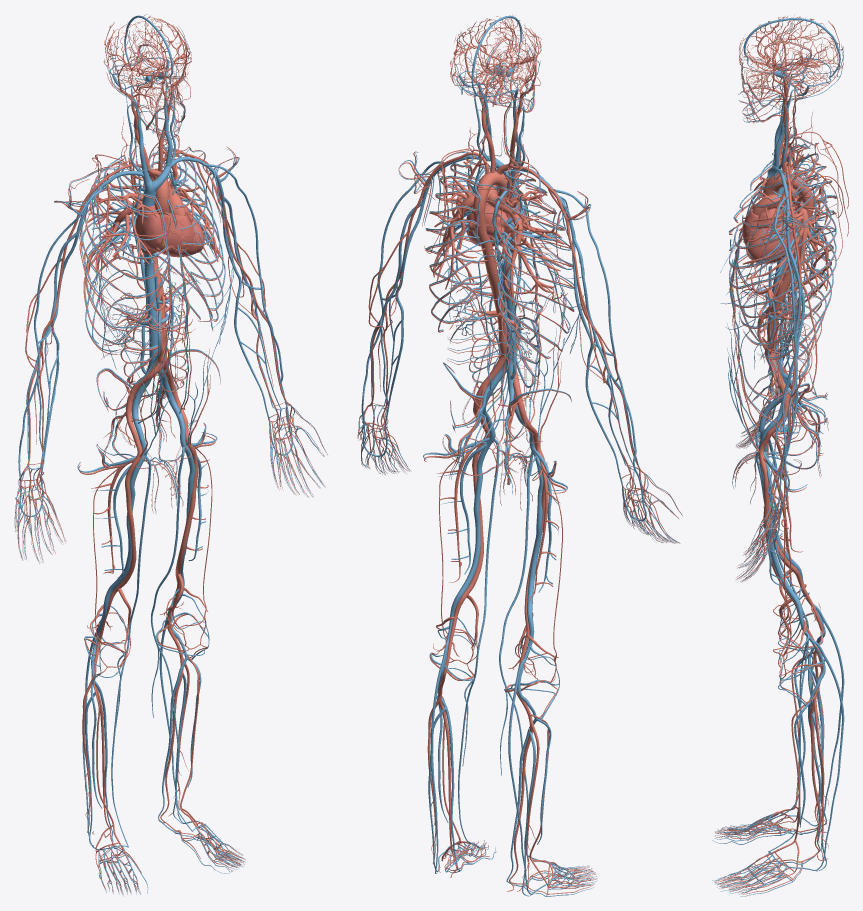
The model's file is cardiovascular-web.glb.
3 views of the same model, side by side, from view 1: azimuth 30°, elevation 25°; view 2: azimuth 150°, elevation 25°; view 3: azimuth 270°, elevation 25° (orthographic). The views are drawn at different scales.
Parts seen in each view (by area): view 1: Right superior intercostal vein.001, Posterior intercostal arteries.r.001, Left superior intercostal vein.001, Great saphenous vein.l.001, Right atrium.001, Right ventricle.001, Great saphenous vein.r.001, Femoral artery.r.001, Posterior intercostal arteries.l.001, Cephalic vein.r.001, Femoral artery.l.001, Cephalic vein.l.001 (+2 smaller); view 2: Posterior intercostal arteries.r.001, Right superior intercostal vein.001, Left superior intercostal vein.001, Posterior intercostal arteries.l.001, Great saphenous vein.l.001, Great saphenous vein.r.001, Femoral vein.l.001, Femoral vein.r.001, Cephalic vein.r.001, Thoracic aorta.001, Basilic vein.r.001, Femoral artery.l.001 (+4 smaller); view 3: Left superior intercostal vein.001, Posterior intercostal arteries.l.001, Cephalic vein.l.001, Right superior intercostal vein.001, Left ventricle.001, Small saphenous vein.l.001, Femoral artery.l.001, Abdominal aorta.001, Great saphenous vein.r.001, Posterior intercostal arteries.r.001, Small saphenous vein.r.001, Great saphenous vein.l.001 (+24 smaller).
Part boxes in pixels (left/top/right/bottom): Right superior intercostal vein.001: left=81, top=155, right=172, bottom=351; Posterior intercostal arteries.r.001: left=79, top=163, right=169, bottom=354; Left superior intercostal vein.001: left=144, top=147, right=225, bottom=329; Great saphenous vein.l.001: left=150, top=446, right=192, bottom=831; Right atrium.001: left=135, top=205, right=170, bottom=254; Right ventricle.001: left=155, top=211, right=197, bottom=256; Great saphenous vein.r.001: left=111, top=456, right=151, bottom=846; Femoral artery.r.001: left=115, top=431, right=142, bottom=590; Posterior intercostal arteries.l.001: left=149, top=153, right=225, bottom=331; Cephalic vein.r.001: left=18, top=187, right=101, bottom=488; Femoral artery.l.001: left=175, top=419, right=198, bottom=575; Cephalic vein.l.001: left=202, top=162, right=289, bottom=422; Posterior intercostal arteries.r.001: left=478, top=187, right=574, bottom=358; Right superior intercostal vein.001: left=492, top=170, right=574, bottom=357; Left superior intercostal vein.001: left=425, top=156, right=502, bottom=331; Posterior intercostal arteries.l.001: left=425, top=177, right=501, bottom=332; Great saphenous vein.l.001: left=458, top=439, right=499, bottom=845; Great saphenous vein.r.001: left=499, top=451, right=538, bottom=859; Femoral vein.l.001: left=459, top=423, right=495, bottom=594; Femoral vein.r.001: left=527, top=435, right=543, bottom=610; Cephalic vein.r.001: left=554, top=189, right=643, bottom=496; Thoracic aorta.001: left=473, top=196, right=497, bottom=275; Basilic vein.r.001: left=572, top=238, right=622, bottom=483; Femoral artery.l.001: left=462, top=419, right=489, bottom=598; Left superior intercostal vein.001: left=729, top=163, right=836, bottom=358; Posterior intercostal arteries.l.001: left=729, top=175, right=836, bottom=359; Cephalic vein.l.001: left=774, top=197, right=796, bottom=518; Right superior intercostal vein.001: left=729, top=144, right=836, bottom=304; Left ventricle.001: left=748, top=224, right=794, bottom=263; Small saphenous vein.l.001: left=803, top=640, right=844, bottom=870; Femoral artery.l.001: left=759, top=431, right=793, bottom=601; Abdominal aorta.001: left=764, top=266, right=793, bottom=354; Great saphenous vein.r.001: left=755, top=432, right=820, bottom=820; Posterior intercostal arteries.r.001: left=729, top=153, right=836, bottom=308; Small saphenous vein.r.001: left=803, top=604, right=844, bottom=826; Great saphenous vein.l.001: left=755, top=452, right=820, bottom=851.
Size of the model in its own units: 0.664 by 1.7 by 0.2488.
